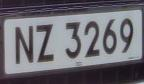2: (82, 17, 103, 61)
3: (62, 18, 84, 63)
6: (101, 15, 119, 60)
9: (118, 14, 136, 58)
N: (13, 20, 37, 71)
Z: (35, 20, 57, 68)
